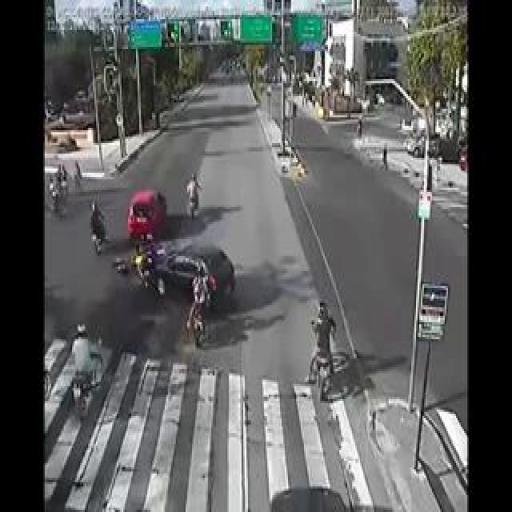Car: (137, 244, 235, 308), (128, 190, 166, 242), (405, 132, 440, 158)
Minor Accident: (117, 230, 243, 321)
Motor: (70, 324, 104, 415), (308, 304, 336, 385), (186, 272, 215, 348), (134, 246, 164, 296), (47, 184, 68, 218), (90, 224, 106, 256), (186, 189, 200, 218)
